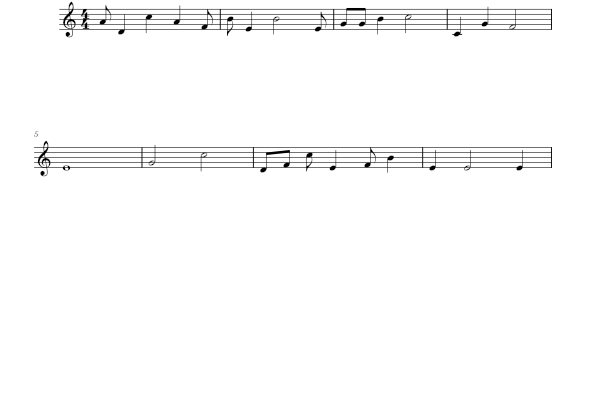Treble Clef: (35, 138, 55, 179), (58, 0, 78, 41)
